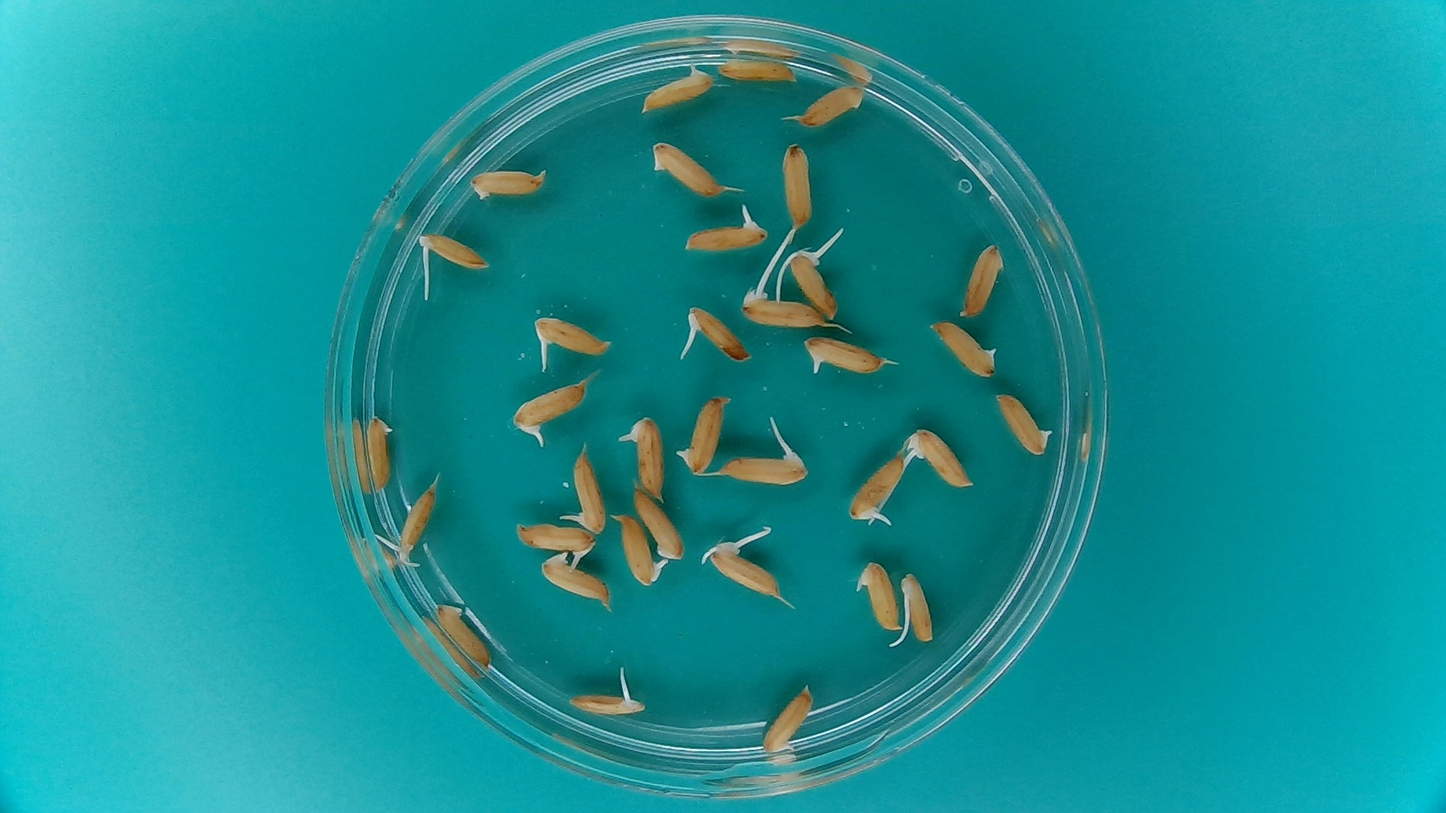no: (648, 136, 734, 199), (431, 599, 494, 670), (761, 680, 816, 755), (633, 487, 686, 562), (956, 239, 1005, 319), (794, 84, 871, 131), (465, 163, 549, 200), (782, 141, 814, 230), (715, 53, 798, 85), (366, 412, 398, 490)
yes: (901, 425, 977, 491), (508, 378, 586, 441), (846, 449, 907, 528), (536, 549, 615, 610), (676, 390, 731, 477), (926, 318, 1001, 379), (618, 412, 668, 501), (679, 303, 752, 363), (714, 539, 783, 601), (637, 61, 718, 113), (798, 333, 891, 377), (993, 390, 1054, 456), (566, 444, 610, 534), (614, 511, 665, 588), (512, 518, 599, 563), (394, 479, 439, 565), (532, 313, 612, 358), (857, 557, 903, 634), (715, 450, 810, 487), (418, 230, 491, 276), (787, 248, 834, 319), (682, 215, 765, 253), (744, 293, 828, 329), (900, 568, 938, 647), (564, 690, 645, 717)
